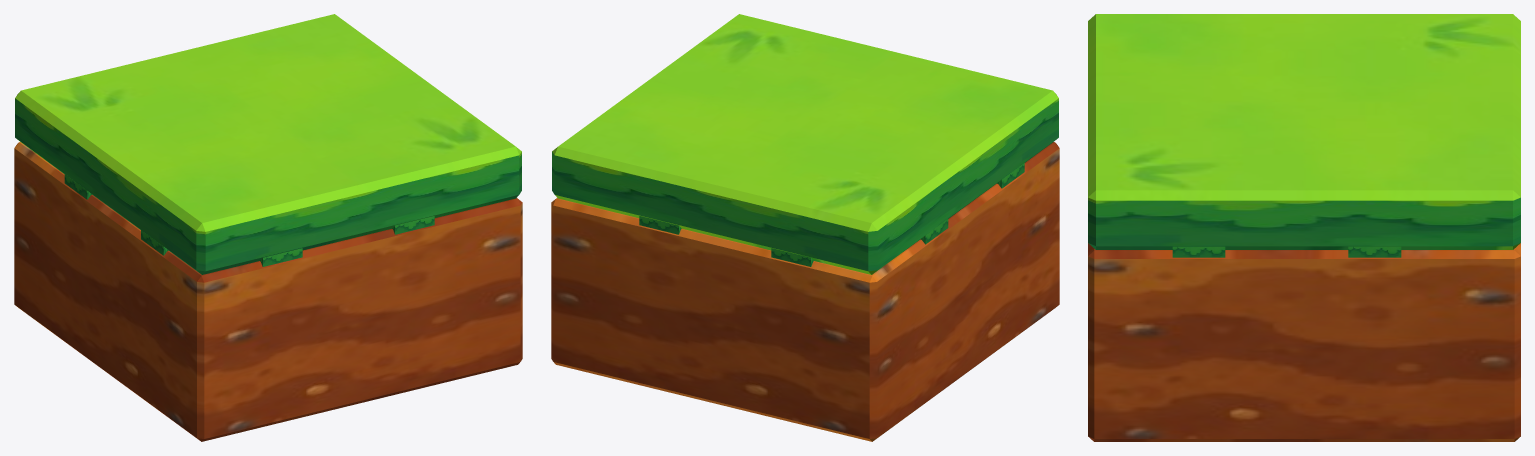
Rendered from grass_blades.glb.
3 views of the same model, side by side, from view 1: azimuth 30°, elevation 25°; view 2: azimuth 150°, elevation 25°; view 3: azimuth 270°, elevation 25° (orthographic). The views are drawn at different scales.
Visible parts, largest first — view 1: grass_blades; view 2: grass_blades; view 3: grass_blades.
Part boxes in pixels (left/top/right/bottom): grass_blades: left=14, top=14, right=522, bottom=441; grass_blades: left=551, top=14, right=1059, bottom=441; grass_blades: left=1088, top=14, right=1520, bottom=441.
Bounding box in the file's own units: 0.985 × 0.63 × 0.985.
Materials: 1 (1 with a texture image).
